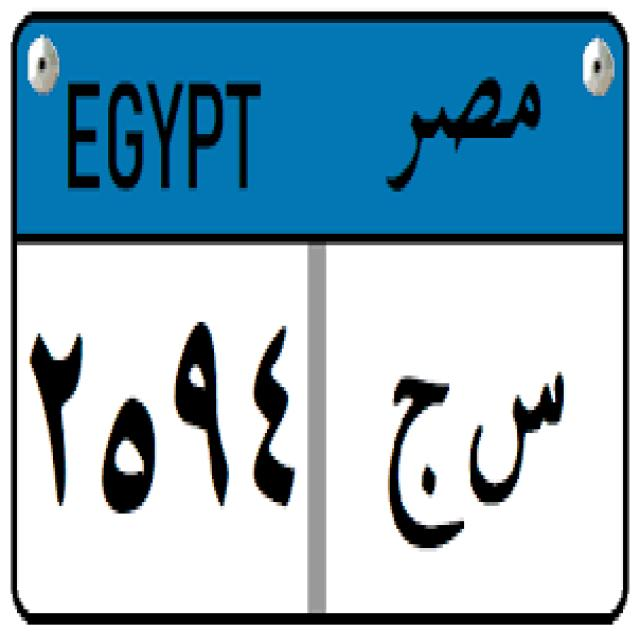car-plate: (12, 11, 632, 622)
